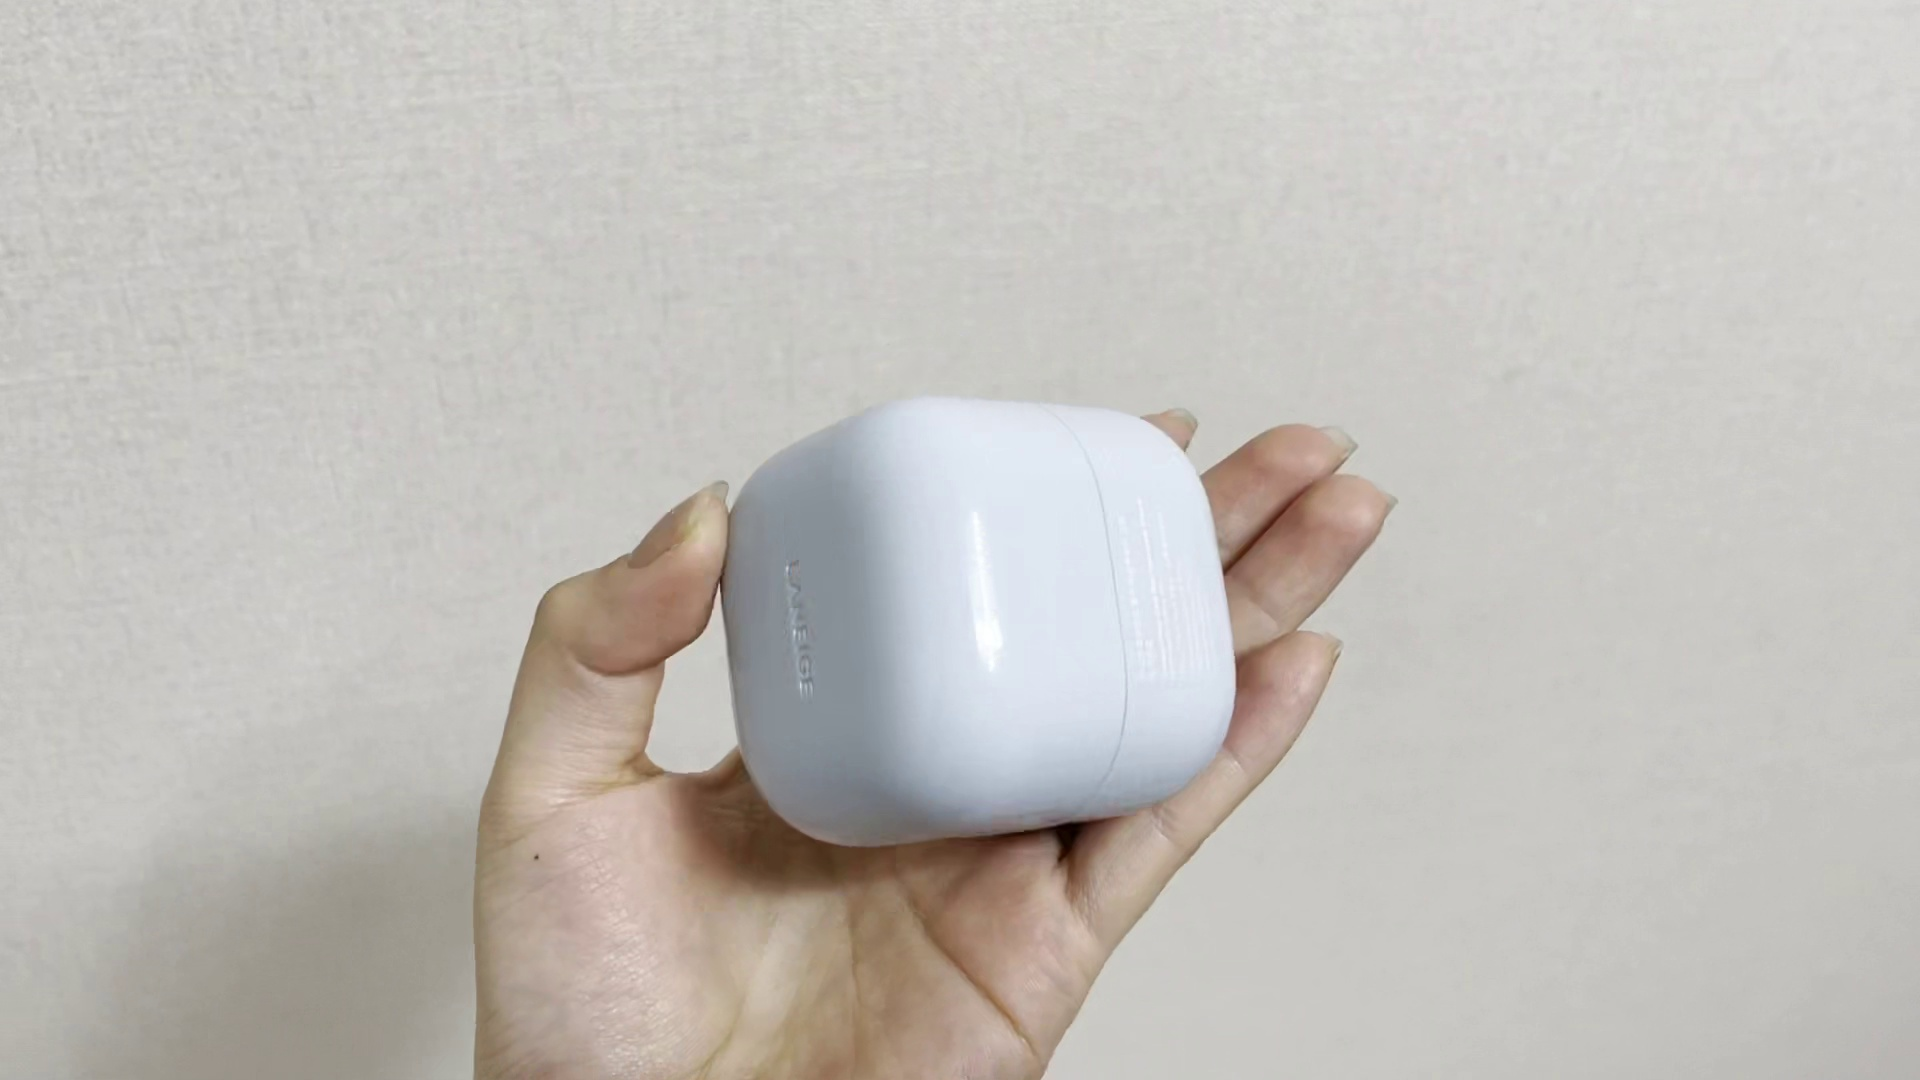cream: (723, 398, 1236, 840)
